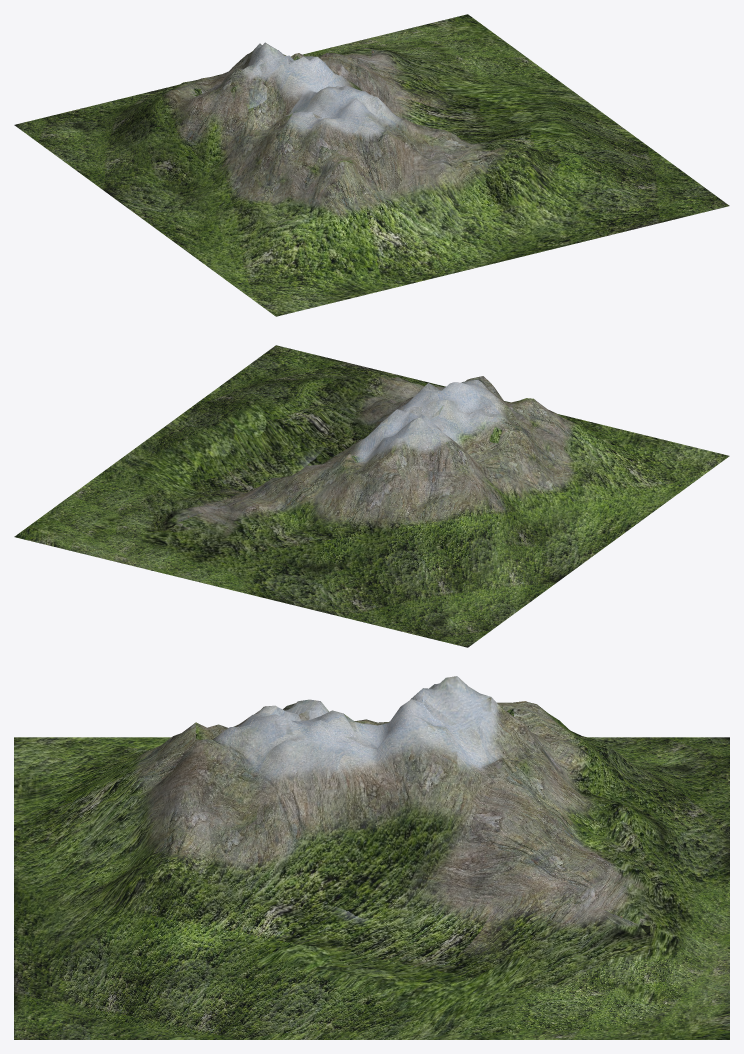
The model's file is Landscape.obj.
3 renders of one model, top to bottom at view 1: azimuth 30°, elevation 25°; view 2: azimuth 150°, elevation 25°; view 3: azimuth 270°, elevation 25°, orthographic. The views are drawn at different scales.
Visible parts, largest first — view 1: Scene_Landscape.000; view 2: Scene_Landscape.000; view 3: Scene_Landscape.000.
Part boxes in pixels (bbox=[...]): Scene_Landscape.000: bbox=[14, 14, 729, 316]; Scene_Landscape.000: bbox=[14, 345, 729, 647]; Scene_Landscape.000: bbox=[14, 676, 729, 1039].
Size of the model in its own units: 800 by 200 by 800.
